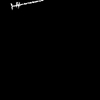treble_crochet: (11, 0, 42, 6)
